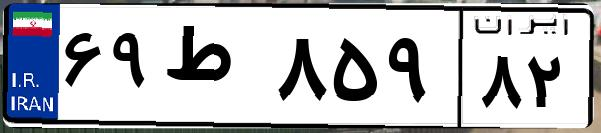2: (525, 38, 570, 115)
5: (330, 28, 385, 110)
6: (57, 26, 110, 100)
8: (270, 28, 330, 110), (475, 38, 525, 113)
9: (385, 28, 445, 110), (110, 28, 158, 98)
ط: (158, 20, 270, 120)
